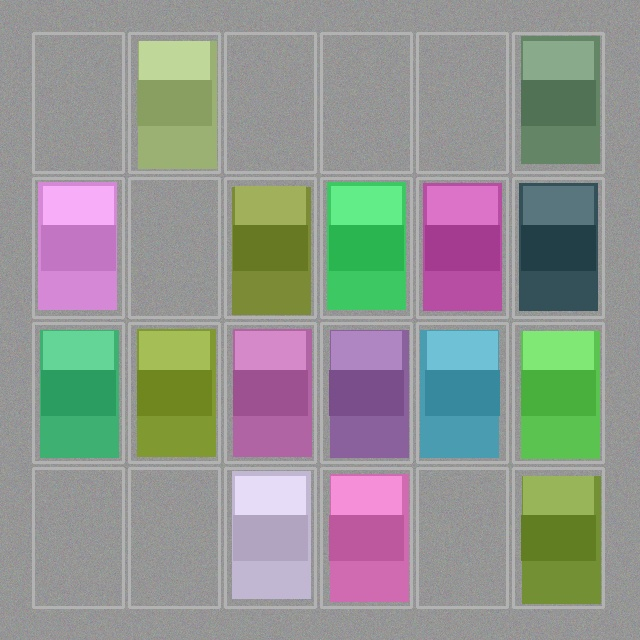space-empty: (35, 35, 121, 170), (227, 35, 313, 170), (323, 35, 409, 170), (419, 35, 505, 170), (131, 180, 217, 315), (35, 470, 121, 605), (131, 470, 217, 605), (419, 470, 505, 605)
space-occupied: (131, 35, 217, 170), (515, 35, 601, 170), (35, 180, 121, 315), (227, 180, 313, 315), (323, 180, 409, 315), (419, 180, 505, 315), (515, 180, 601, 315), (35, 325, 121, 460), (131, 325, 217, 460), (227, 325, 313, 460), (323, 325, 409, 460), (419, 325, 505, 460), (515, 325, 601, 460), (227, 470, 313, 605), (323, 470, 409, 605), (515, 470, 601, 605)
